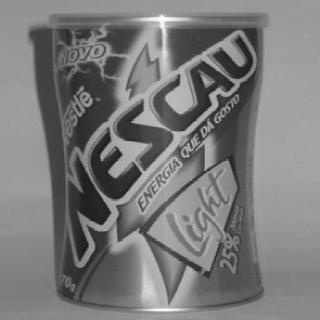alumunium_can: (48, 11, 270, 312)
